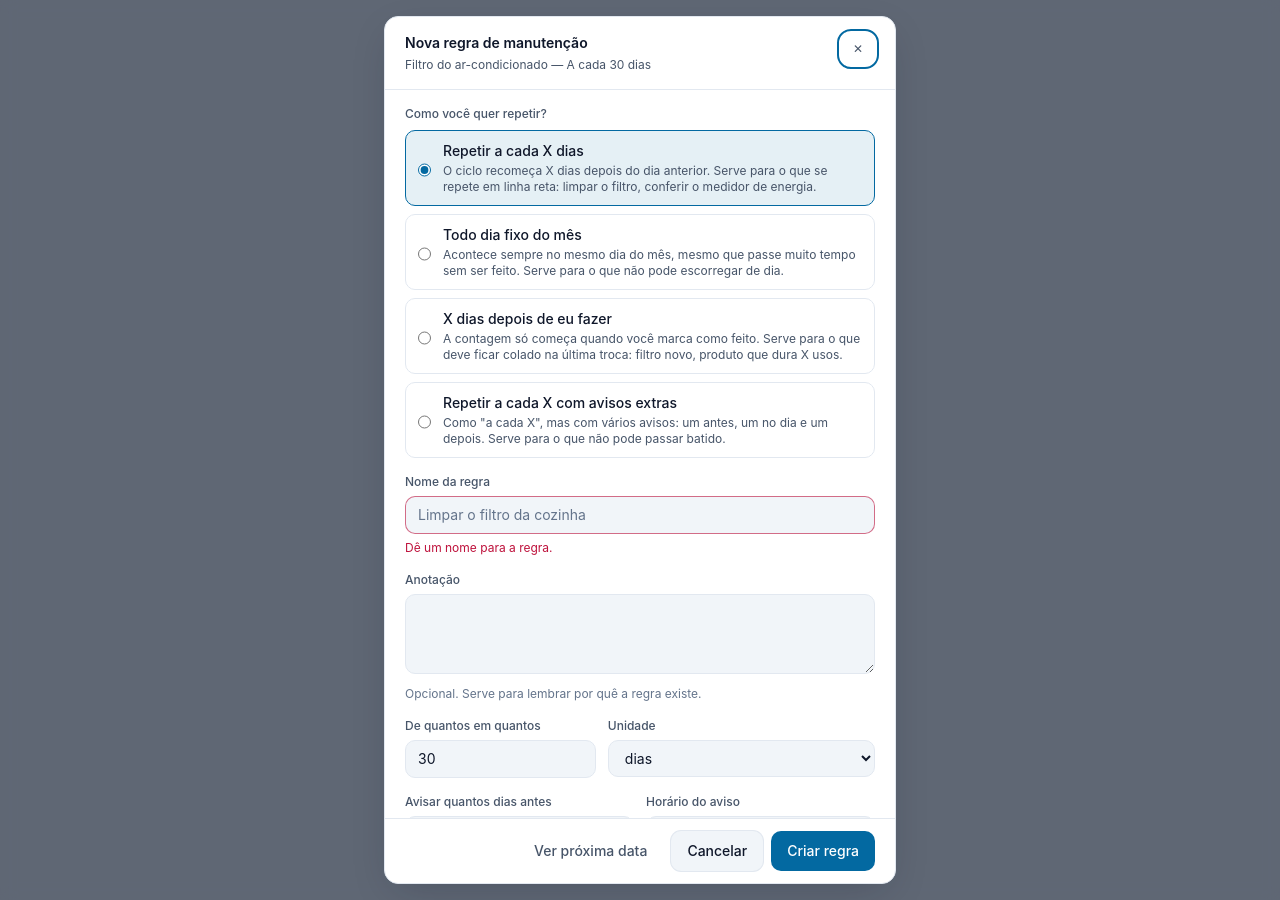
it: TriggerBuilderModal › trocar de tipo esconde os campos que o novo tipo proíbe
This screenshot has width=1280, height=900.
Click the radio button labelled "Todo dia fixo do mês" at (424, 254), box [418,229,431,279]
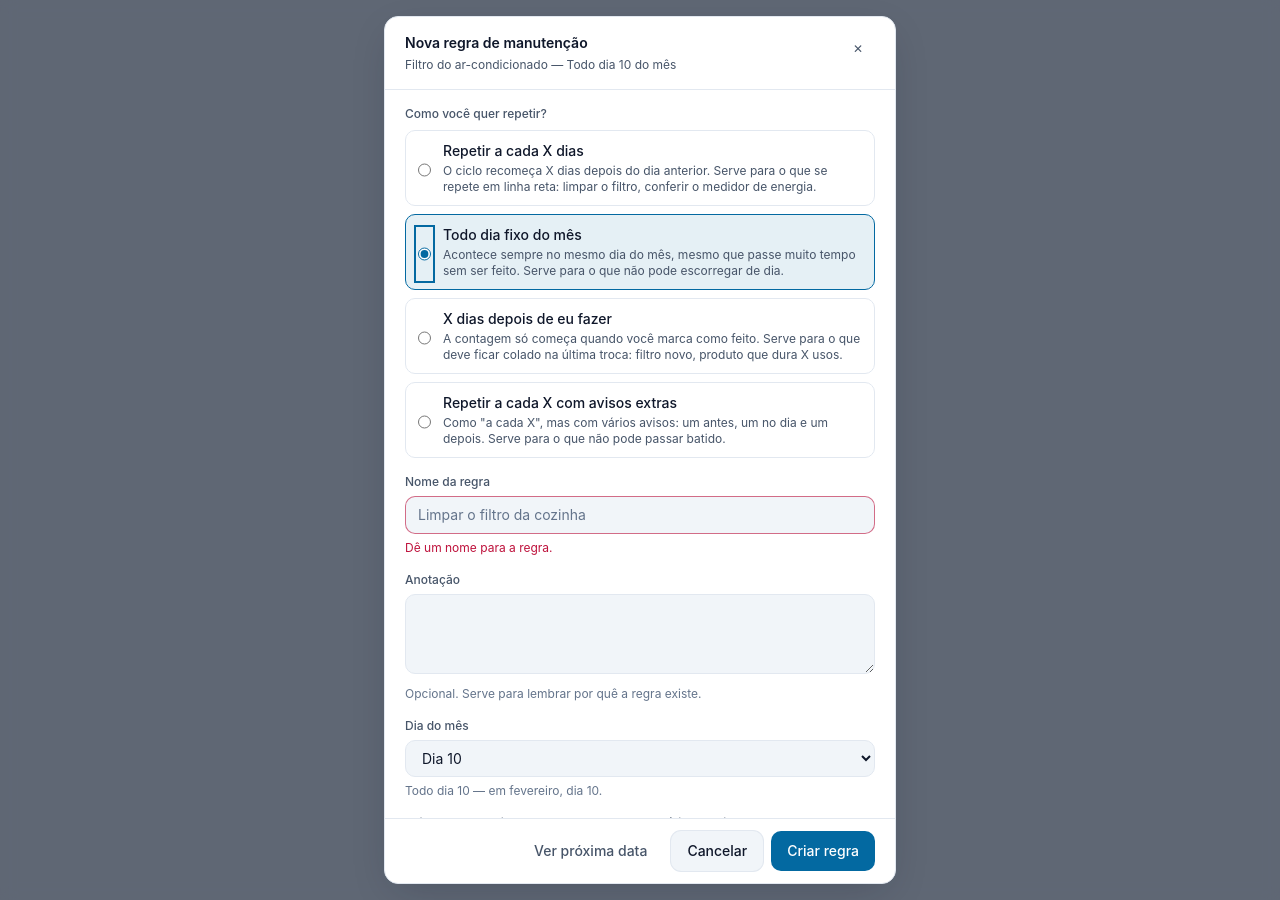
Expected: the dropdown labelled "Dia do mês" is shown, [405,740,875,777]
Expected: the label labelled "De quantos em quantos" is gone
Click the radio button labelled "Repetir a cada X dias" at (424, 170), box [418,145,431,195]
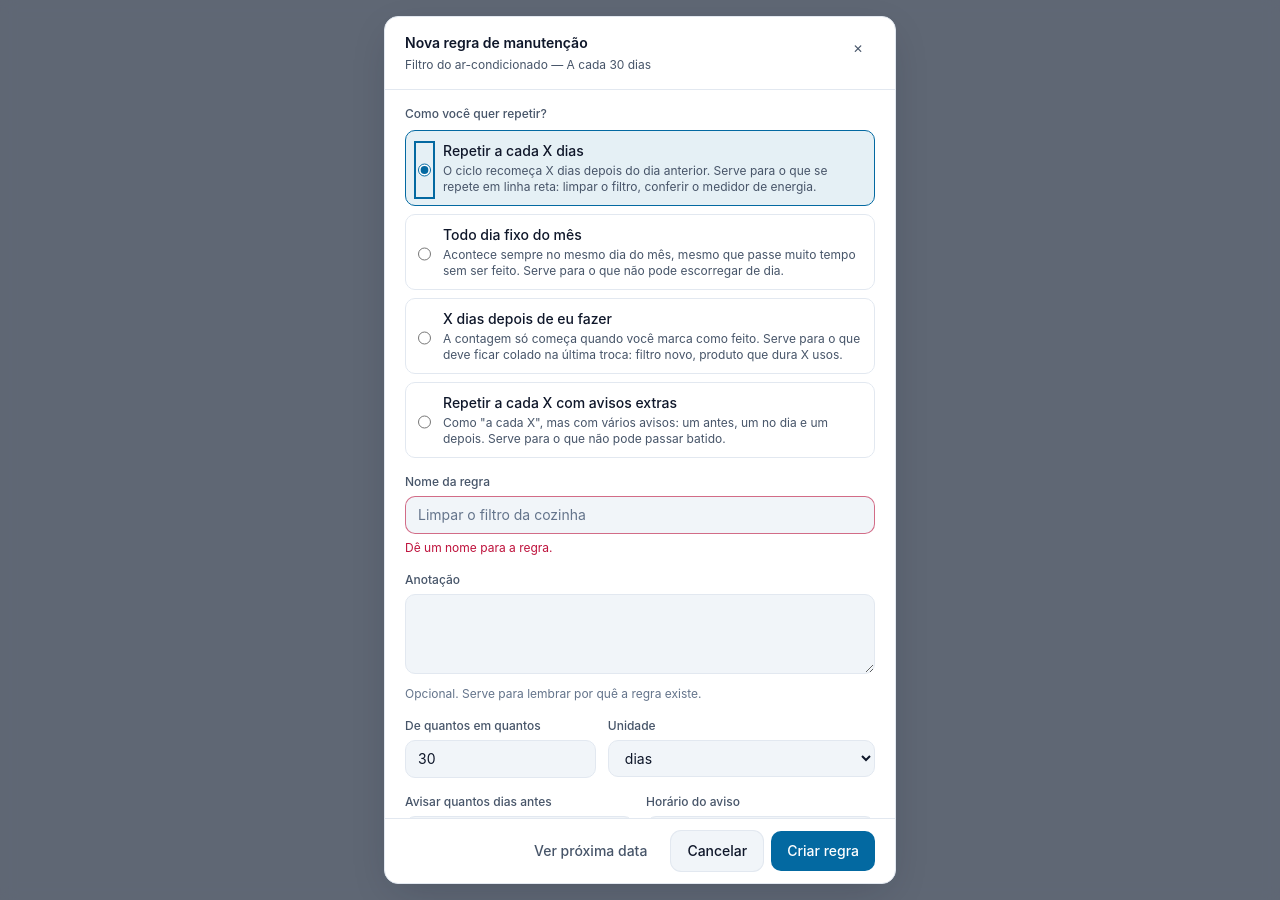
Expected: the number field labelled "De quantos em quantos" is shown, [405,740,596,778]
